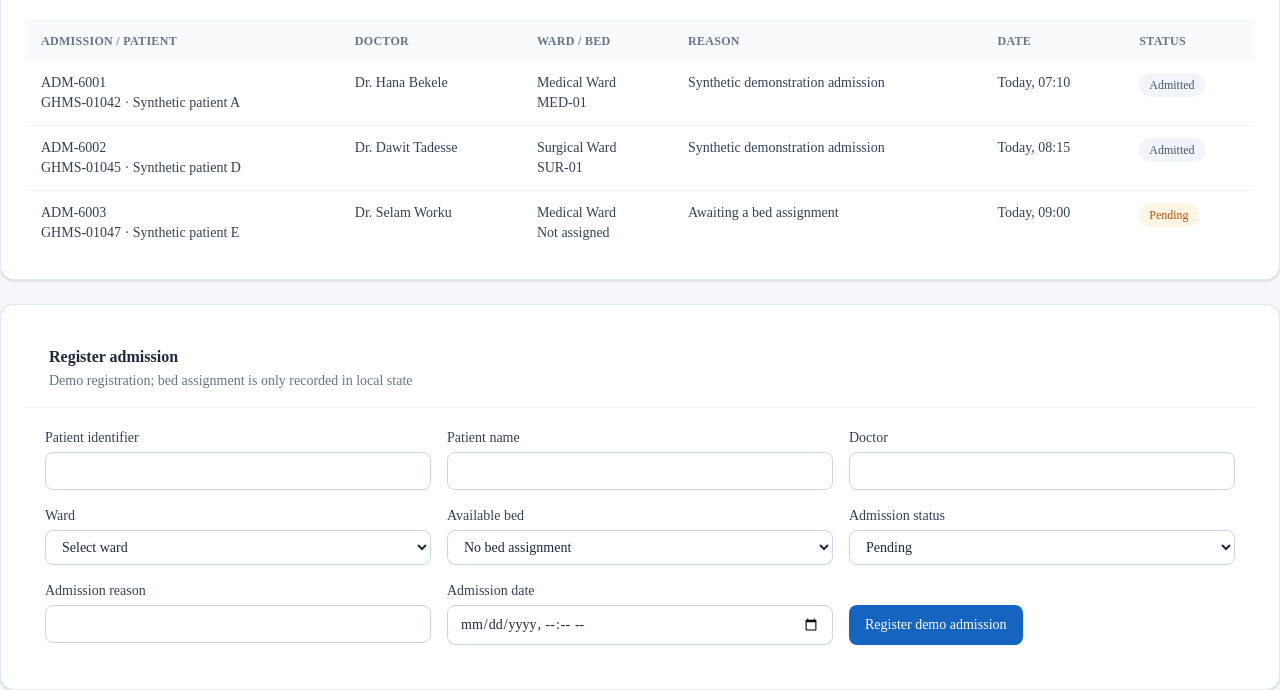
HospitalResourcesScreen › registers an admission and leaves discharge authorization server-controlled
The width and height of the screenshot is (1280, 690).
(page scrolled)
Type "GHMS-01099" into the field labelled "Patient identifier" at (238, 471), box [45, 452, 431, 490]
Type "Synthetic admission" into the field labelled "Patient name" at (640, 471), box [447, 452, 833, 490]
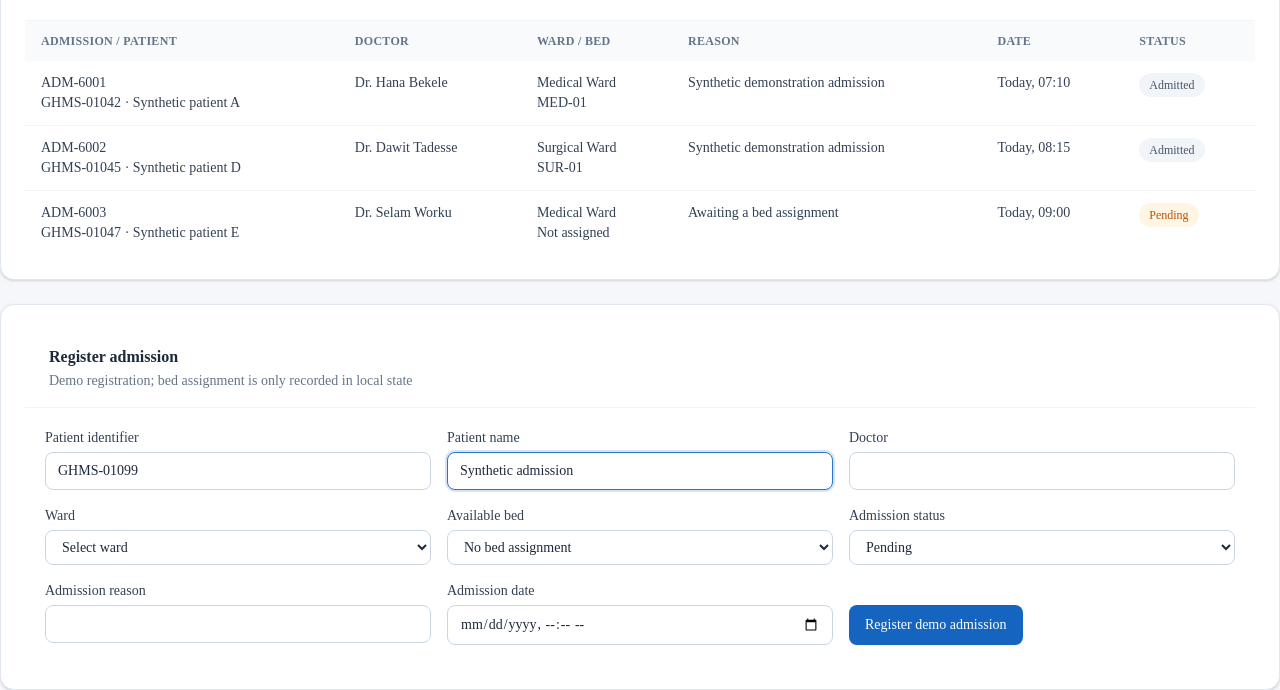
Type "Dr. Demo" into the field labelled "Doctor" at (1042, 471), box [849, 452, 1235, 490]
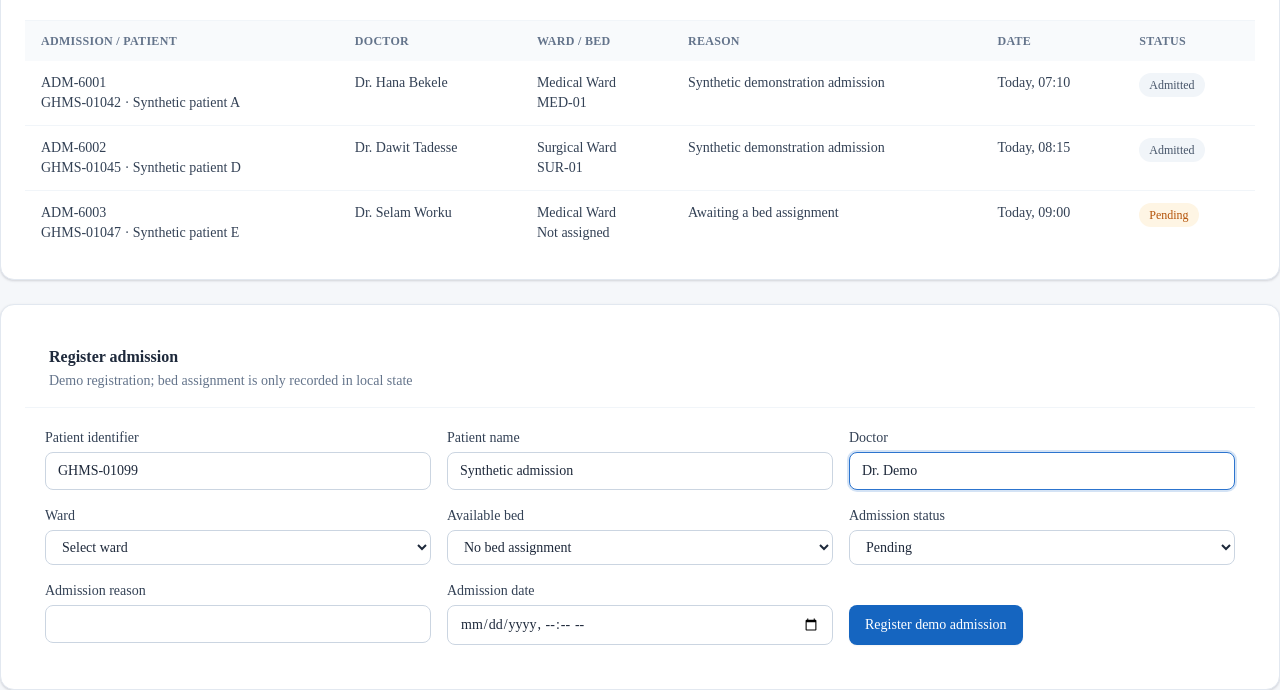
Select "Medical Ward" in the dropdown labelled "Ward" at (238, 548), box [45, 530, 431, 565]
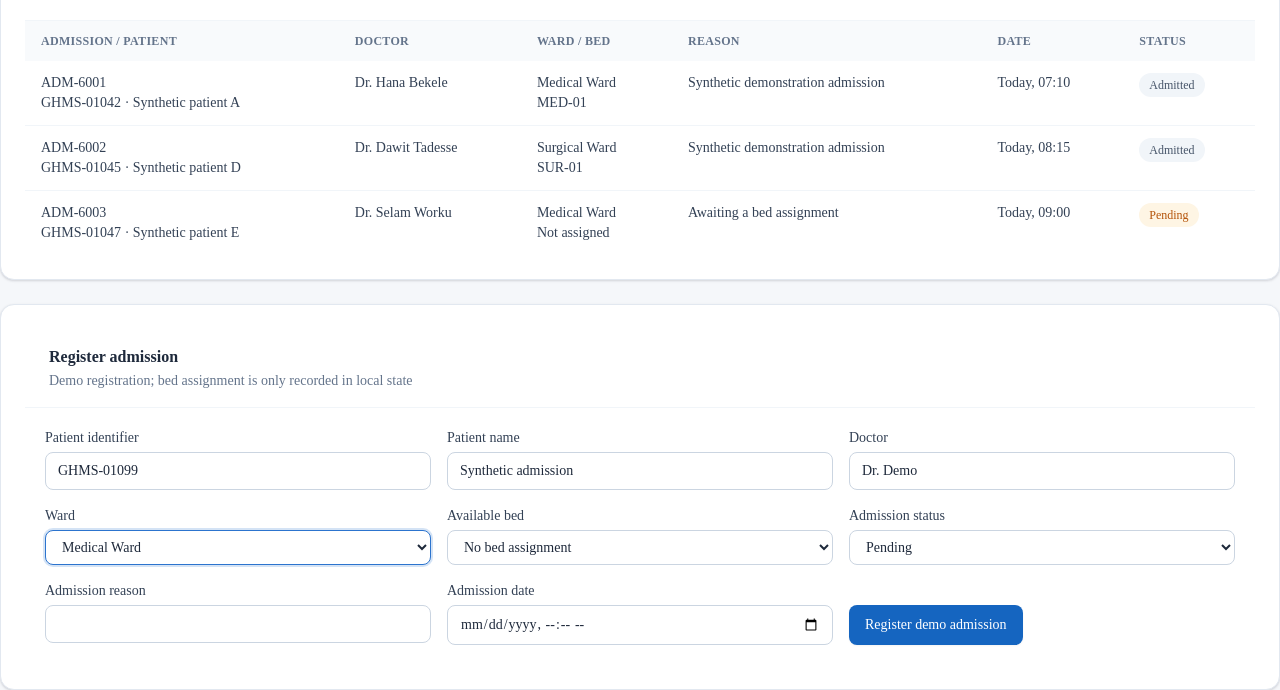
Type "Synthetic observation" into the field labelled "Admission reason" at (238, 624), box [45, 605, 431, 643]
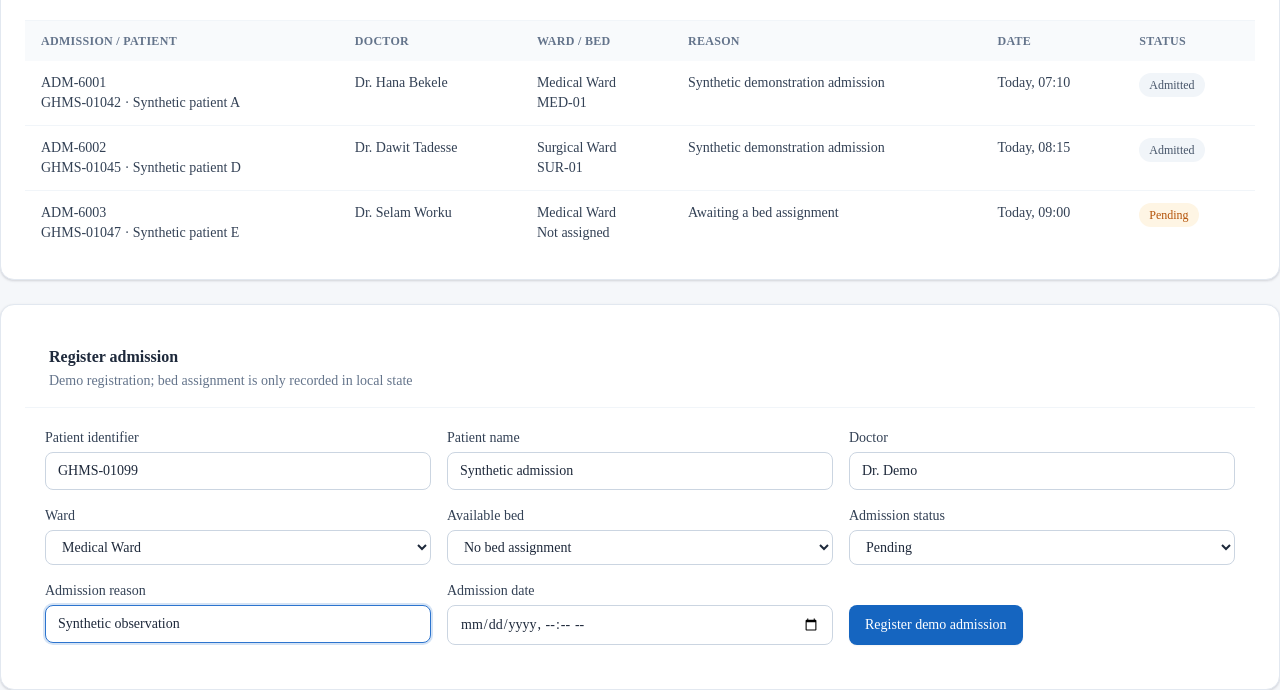
Type "2026-07-12T10:00" into the field labelled "Admission date" at (640, 625), box [447, 605, 833, 645]
Click the button "Register demo admission" at (936, 625), box [849, 605, 1022, 645]
(page scrolled)
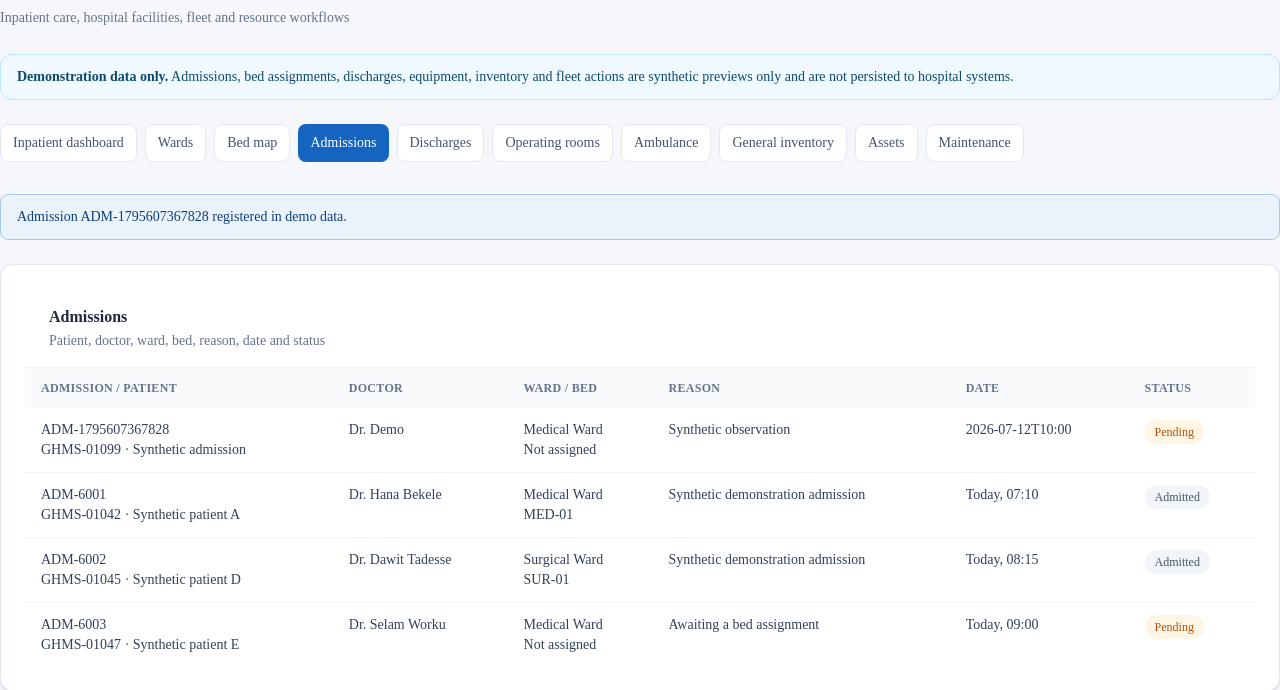
expect the message shows "registered in demo data": met, box [17, 209, 347, 224]
expect the table named "Admissions" shows "GHMS-01099": met, box [41, 442, 121, 457]
Click the tab "Discharges" at (440, 143), box [396, 124, 484, 162]
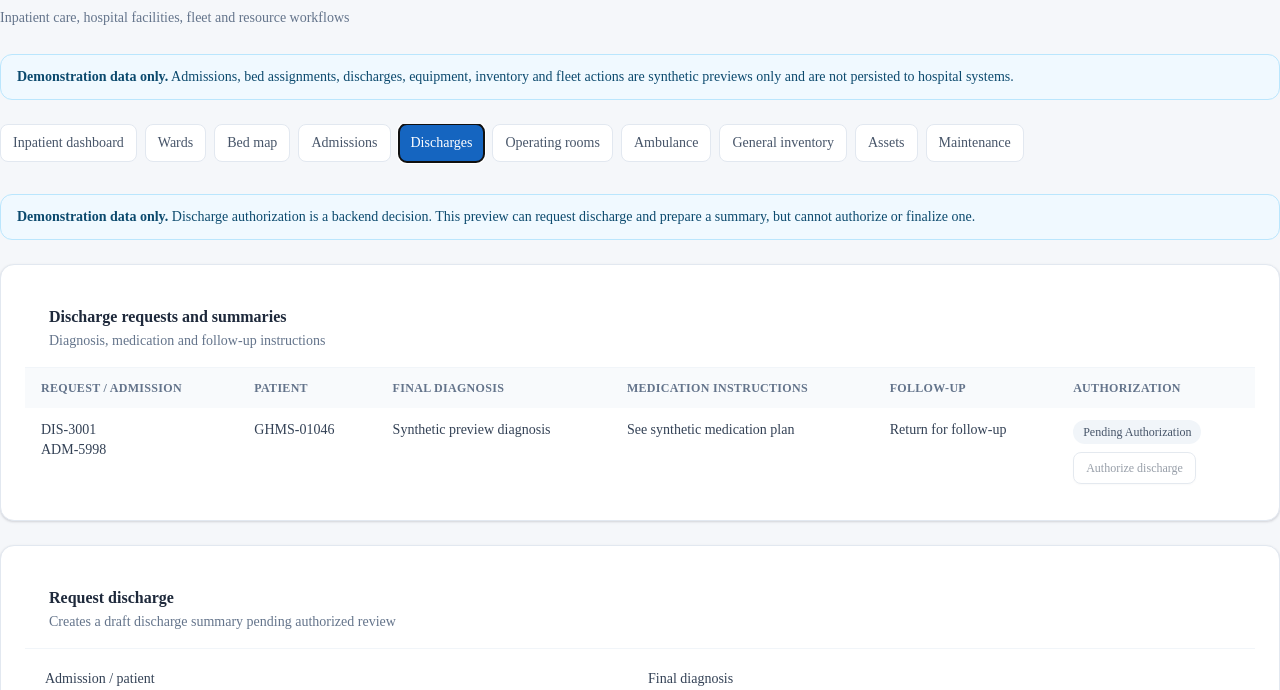
expect the button "Authorize discharge" is disabled: met, box [1073, 452, 1196, 484]
expect the text "Discharge authorization is a backend decision" is shown: met, box [172, 209, 975, 224]
